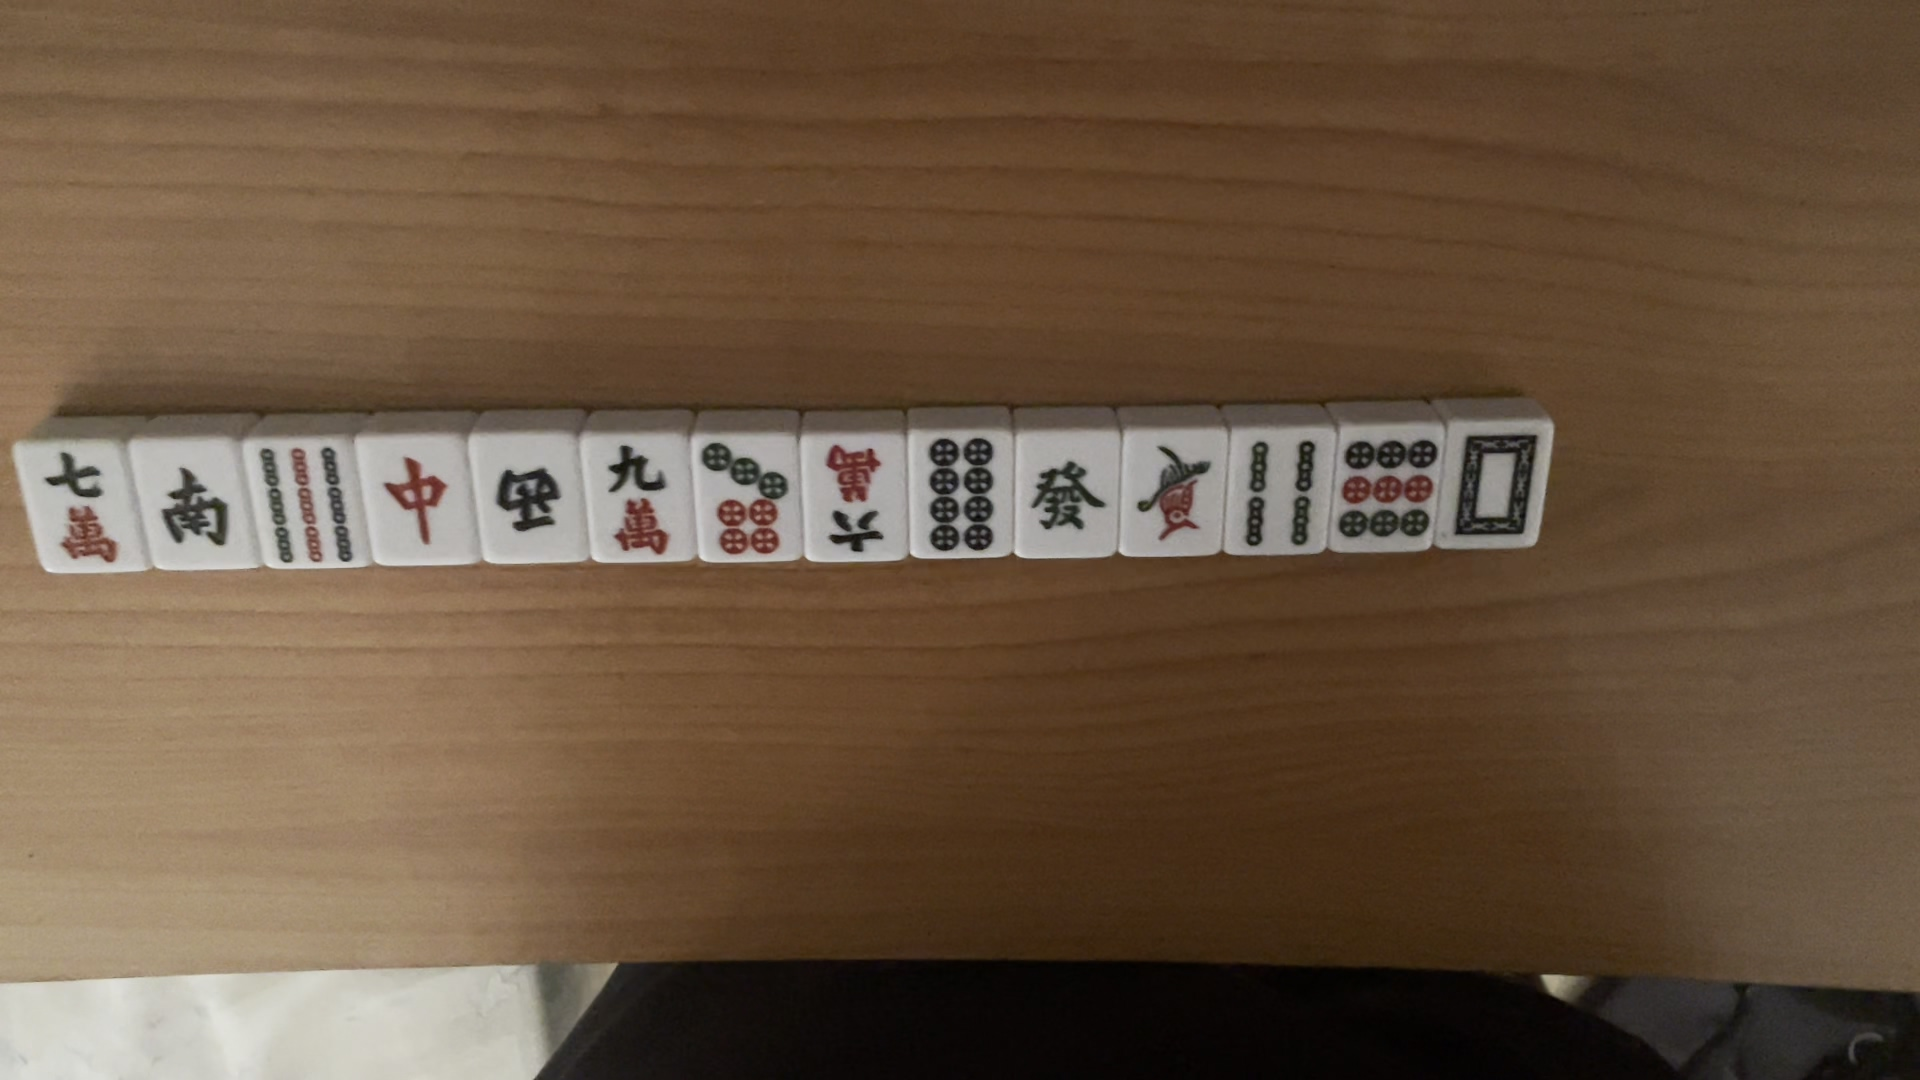b-1: (1129, 446, 1211, 546)
b-4: (1236, 440, 1325, 554)
b-9: (255, 440, 361, 564)
c-6: (814, 438, 895, 559)
c-7: (32, 444, 127, 575)
c-9: (696, 433, 793, 562), (591, 438, 676, 550)
d-8: (923, 436, 1000, 560)
d-9: (1342, 435, 1436, 546)
honors-green: (1025, 459, 1109, 541)
honors-red: (378, 450, 458, 549)
honors-south: (152, 454, 235, 547)
honors-west: (495, 462, 574, 546)
honors-white: (1452, 421, 1539, 545)
